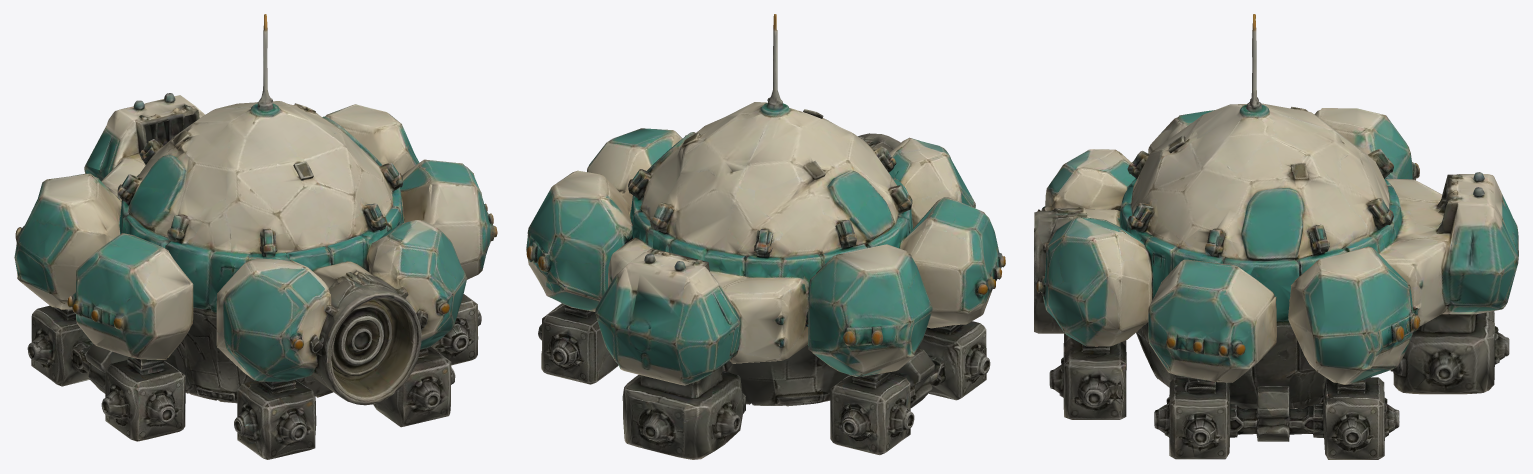
The model's file is sentinel.glb.
The picture shows the model from 3 angles, left to right: view 1: azimuth 30°, elevation 25°; view 2: azimuth 150°, elevation 25°; view 3: azimuth 270°, elevation 25°; orthographic projection.
Bounding box in the file's own units: 1.89 × 1.57 × 1.9.
Materials: 1 (1 with a texture image).
